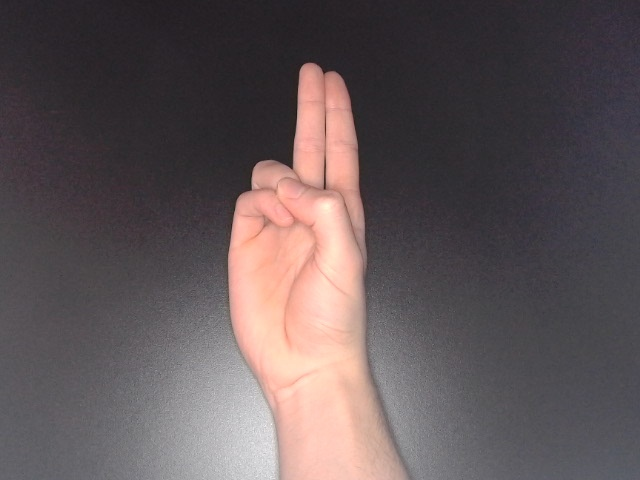r: (217, 56, 376, 416)
